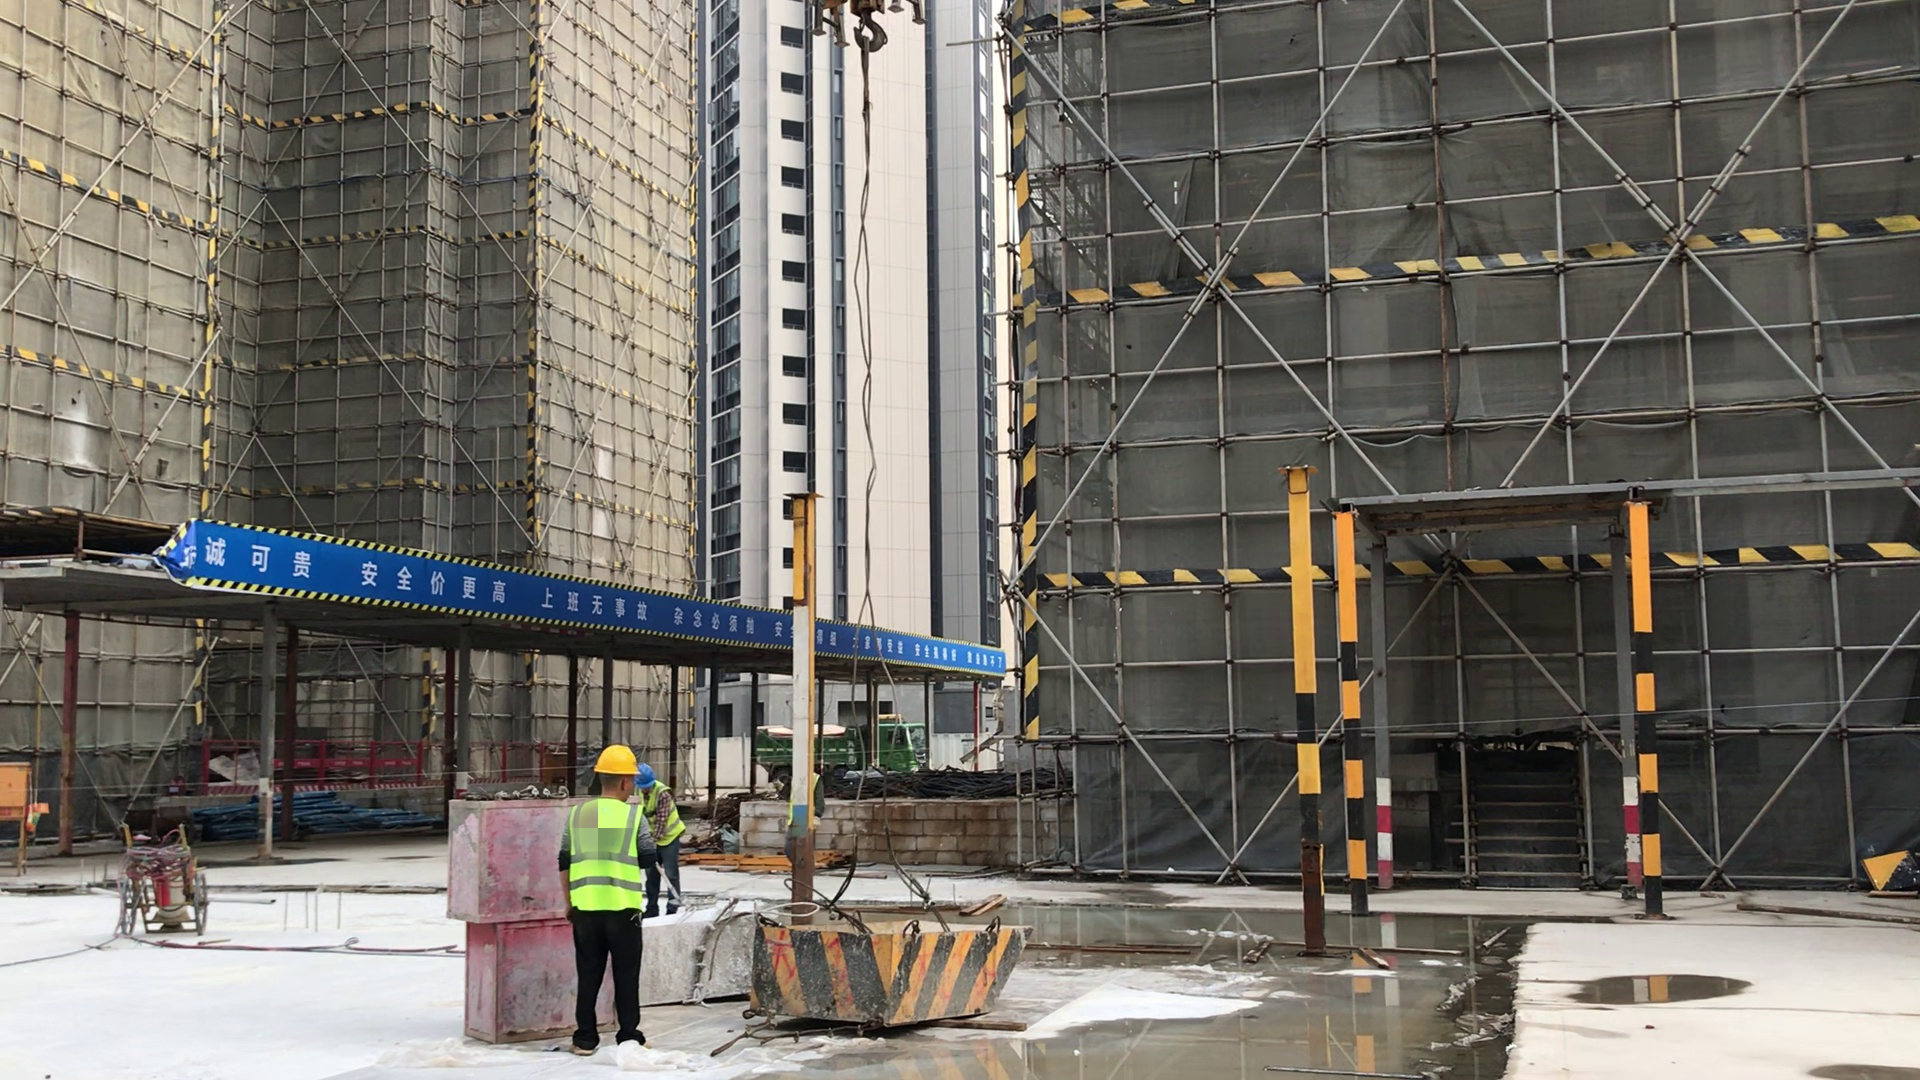fence: (205, 738, 574, 792)
handcart: (115, 815, 201, 937)
helmet: (594, 745, 638, 774), (636, 763, 653, 787)
hopper: (752, 919, 1029, 1027), (643, 912, 771, 1008)
person: (558, 745, 659, 1057), (633, 764, 686, 920)
slogan: (177, 519, 1008, 679)
vest: (569, 797, 643, 910), (645, 782, 687, 848)
